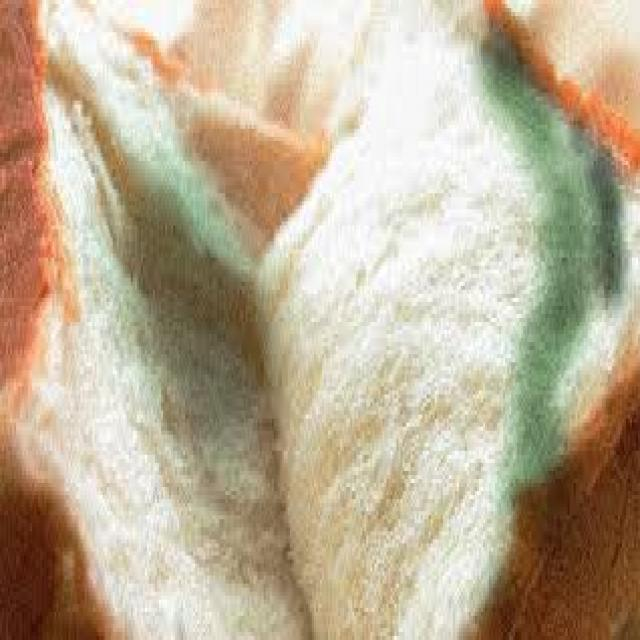organic waste: (256, 0, 638, 636), (0, 0, 312, 636), (44, 0, 334, 278)
